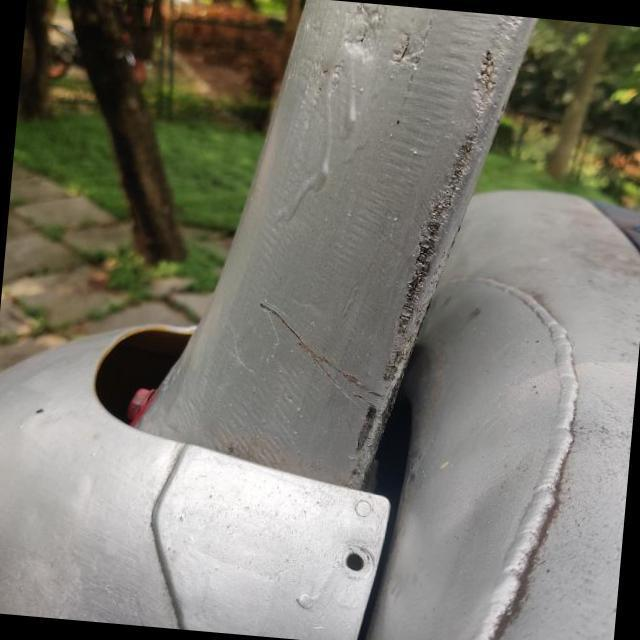Fastener Damage: (320, 528, 396, 598)
